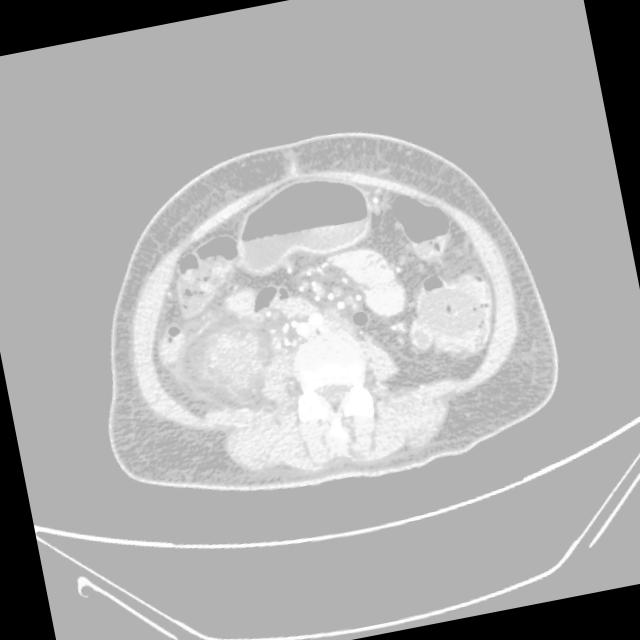TUMOR: (65, 232, 370, 440)
